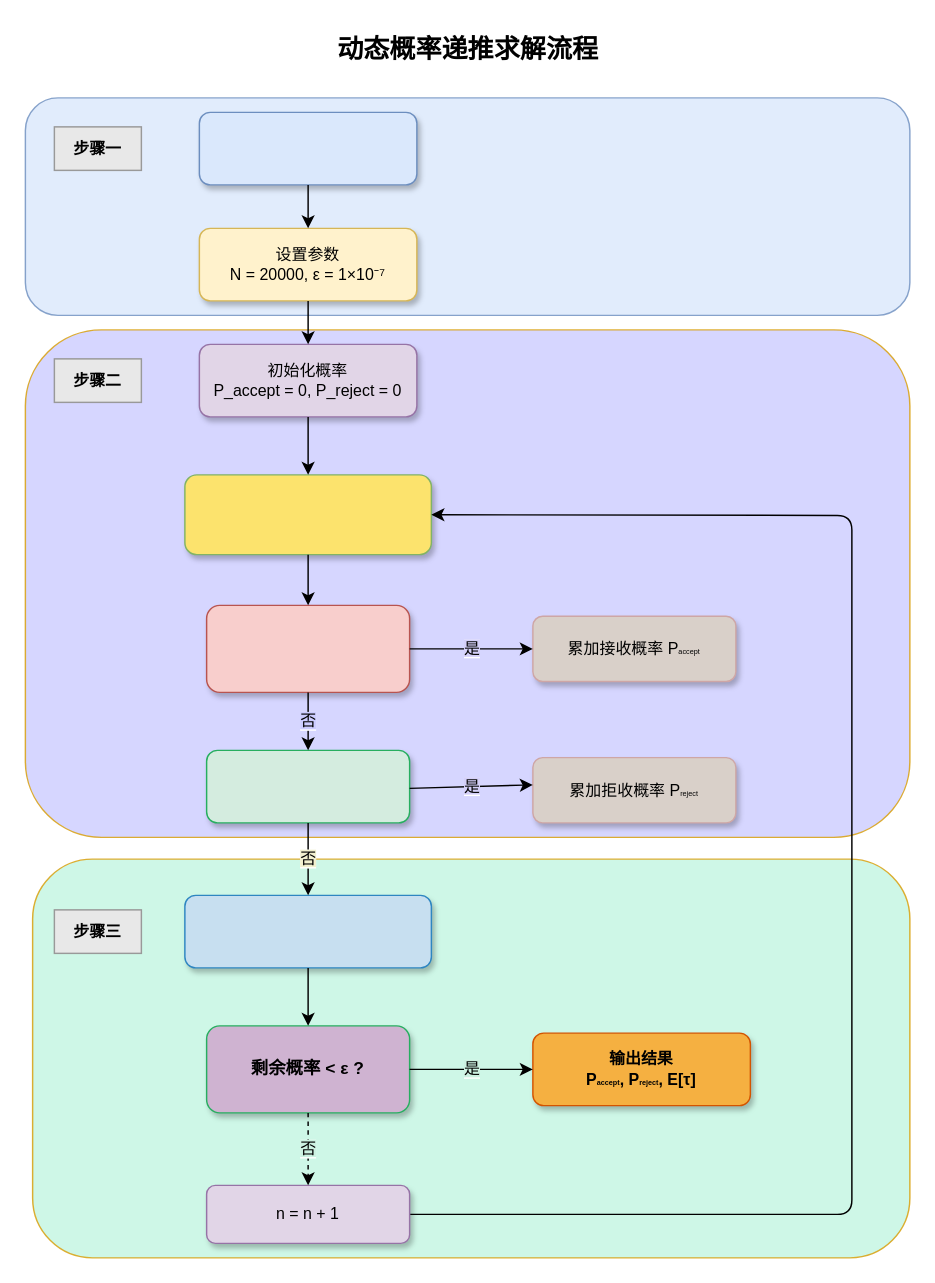
The diagram is 935 pixels wide and 1283 high, and some of its shapes have lost their labels. Each missing label, with the centre of its shape:
"k ≤ a n ?" belongs at pixel 308 650.
"k ≥ r n ?" belongs at pixel 308 788.
"保留中间状态 a n < k < r n 继续传播" belongs at pixel 309 933.
"开始 n = 0, k = 0, f(0,0) = 1" belongs at pixel 309 150.
"状态传播 f(n+1,k) = (1-p)·f(n,k) + p·f(n,k-1)" belongs at pixel 309 516.
